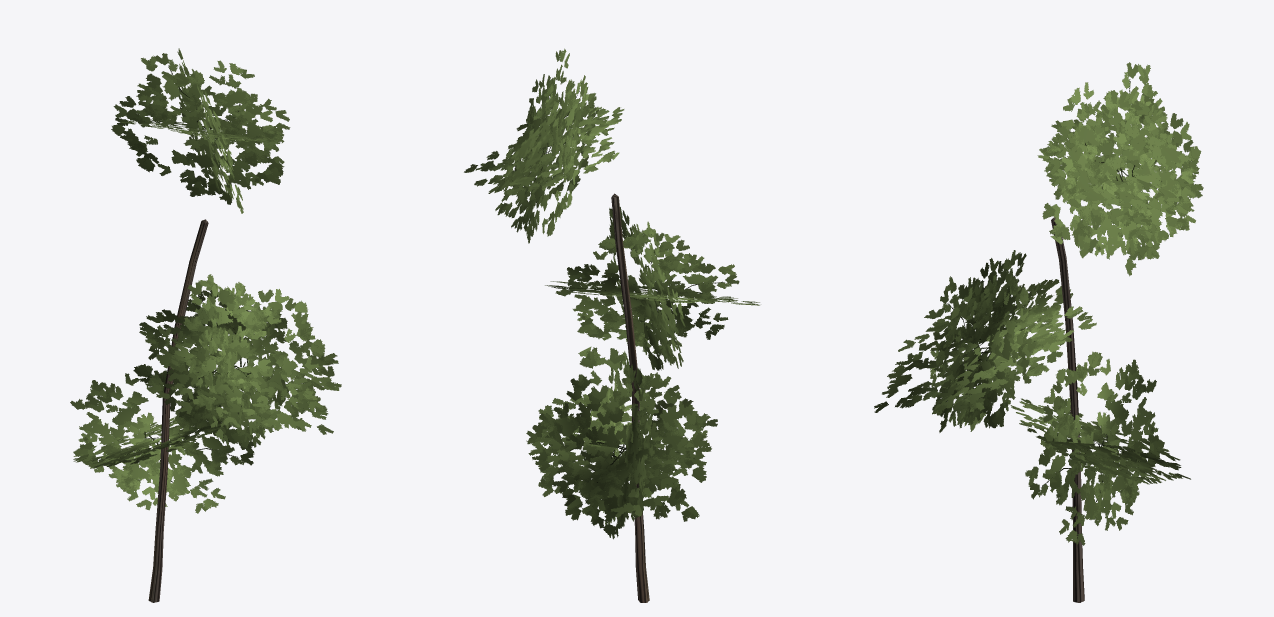
Rendered from seedling-c.lod0.glb.
3 renders of one model, left to right at view 1: azimuth 30°, elevation 25°; view 2: azimuth 150°, elevation 25°; view 3: azimuth 270°, elevation 25°, orthographic. The views are drawn at different scales.
Parts seen in each view (by area): view 1: foliage, bark; view 2: foliage, bark; view 3: foliage, bark.
Boxes of the visible parts, x1,y1,x2,y2 form: foliage: (70, 48, 341, 513); bark: (148, 219, 208, 602); foliage: (464, 48, 759, 539); bark: (611, 193, 649, 602); foliage: (874, 62, 1203, 545); bark: (1051, 217, 1084, 602).
Size of the model in its own units: 0.1914 by 0.35 by 0.233.
2 materials, 2 textured.
